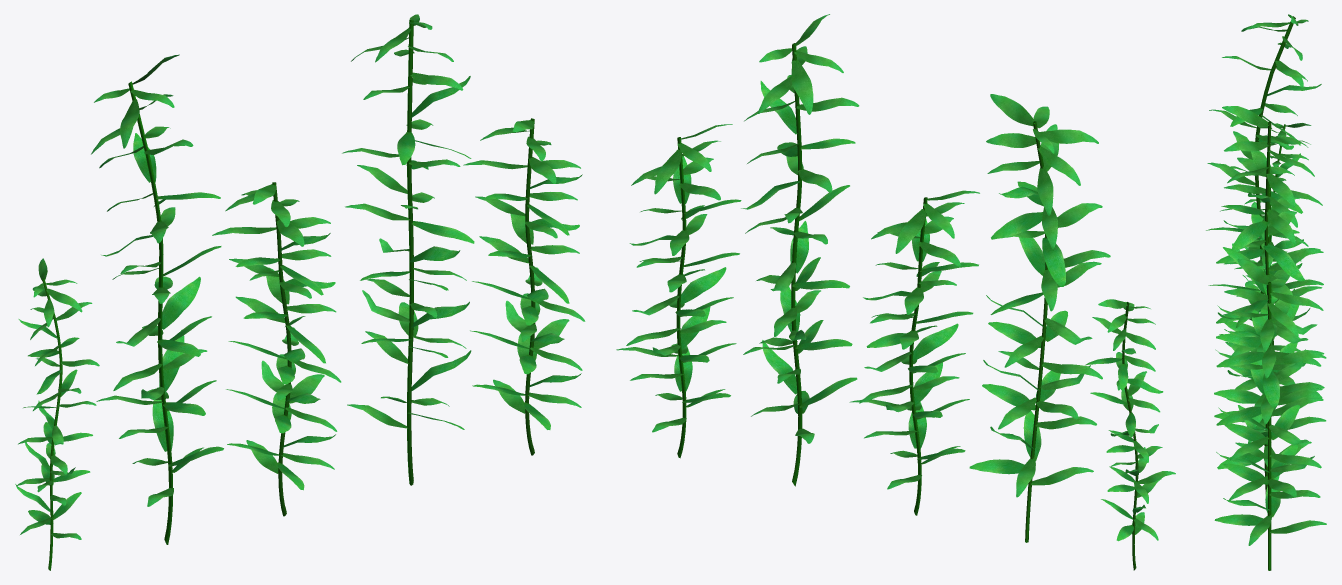
File: KelpTrees.fbx
3 renders of one model, left to right at view 1: azimuth 30°, elevation 25°; view 2: azimuth 150°, elevation 25°; view 3: azimuth 270°, elevation 25°, orthographic. The views are drawn at different scales.
Visible parts, largest first — view 1: Kelp_Stem (×5), KelpLeafD3; view 2: Kelp_Stem (×4), KelpLeafA22, KelpLeafD4, KelpLeafB9; view 3: Kelp_Stem (×3), KelpLeafB9 (×3), KelpLeafD4 (×2), KelpLeafA21 (×3), KelpLeafA13 (×4), KelpLeafB5 (×3), KelpLeafA17 (×3), KelpLeafA11 (×3), KelpLeafB7 (×3), KelpLeafB3 (×2), KelpLeafA19 (×3), KelpLeafA10 (×3) (+24 smaller).
Part boxes in pixels (box(x1,y1,x2,y2)): Kelp_Stem (×5): box(42, 20, 535, 570); KelpLeafD3: box(162, 276, 200, 329); Kelp_Stem (×4): box(676, 43, 1047, 542); KelpLeafA22: box(791, 59, 813, 114); KelpLeafD4: box(1042, 237, 1065, 286); KelpLeafB9: box(991, 212, 1042, 239); Kelp_Stem (×3): box(1255, 16, 1295, 570); KelpLeafB9 (×3): box(1216, 220, 1268, 367); KelpLeafD4 (×2): box(1262, 244, 1305, 407); KelpLeafA21 (×3): box(1222, 106, 1269, 284); KelpLeafA13 (×4): box(1233, 131, 1324, 392); KelpLeafB5 (×3): box(1216, 321, 1267, 444); KelpLeafA17 (×3): box(1224, 141, 1271, 300); KelpLeafA11 (×3): box(1262, 103, 1297, 378); KelpLeafB7 (×3): box(1216, 299, 1267, 425); KelpLeafB3 (×2): box(1214, 389, 1267, 484); KelpLeafA19 (×3): box(1268, 150, 1314, 337); KelpLeafA10 (×3): box(1207, 162, 1322, 405).
Bounding box in the file's own units: 4.64 × 3.79 × 1.02.
Materials: 1 (1 with a texture image).
